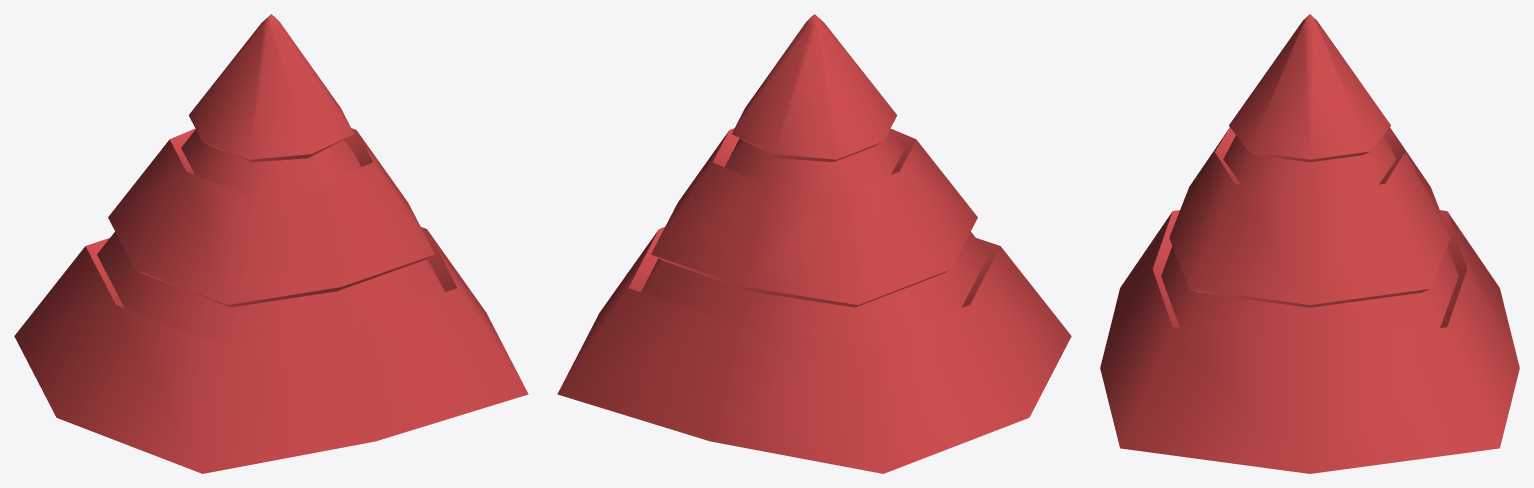
The model's file is flying spike.fbx.
The picture shows the model from 3 angles, left to right: view 1: azimuth 30°, elevation 25°; view 2: azimuth 150°, elevation 25°; view 3: azimuth 270°, elevation 25°; orthographic projection.
Visible parts, largest first — view 1: Cube.097; view 2: Cube.097; view 3: Cube.097.
Boxes of the visible parts, left/top/right/bottom form: Cube.097: left=14, top=14, right=528, bottom=473; Cube.097: left=557, top=14, right=1071, bottom=473; Cube.097: left=1100, top=14, right=1519, bottom=473.
Bounding box in the file's own units: 264 × 221 × 206.
